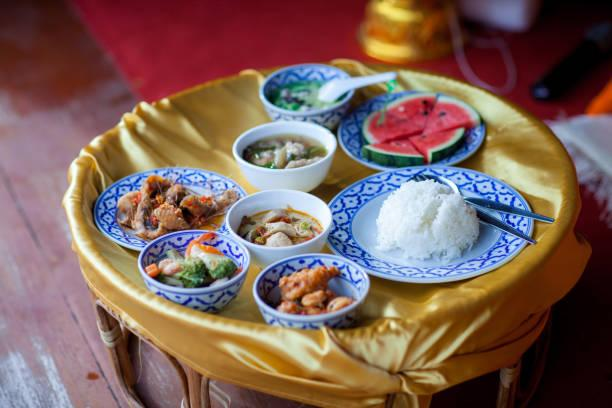Braised Crucian Carp: (327, 165, 528, 281), (337, 93, 493, 177), (93, 167, 246, 252), (136, 231, 250, 314), (252, 252, 368, 329), (225, 187, 331, 269), (232, 119, 335, 193)
